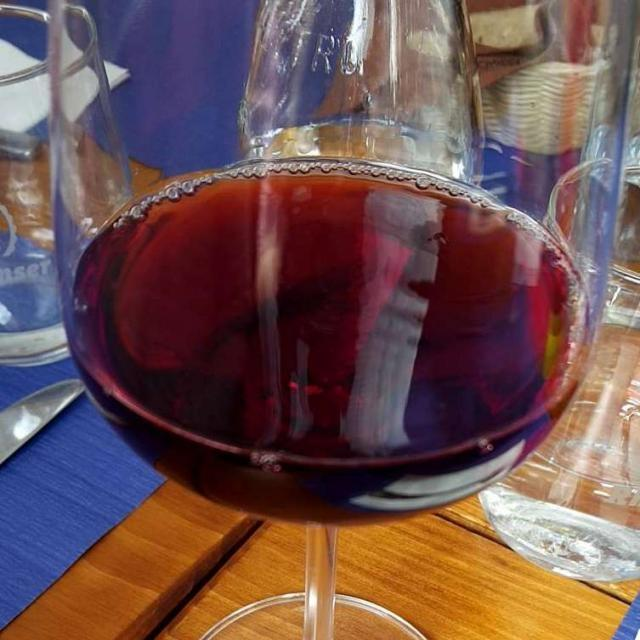wine: (74, 182, 590, 534)
